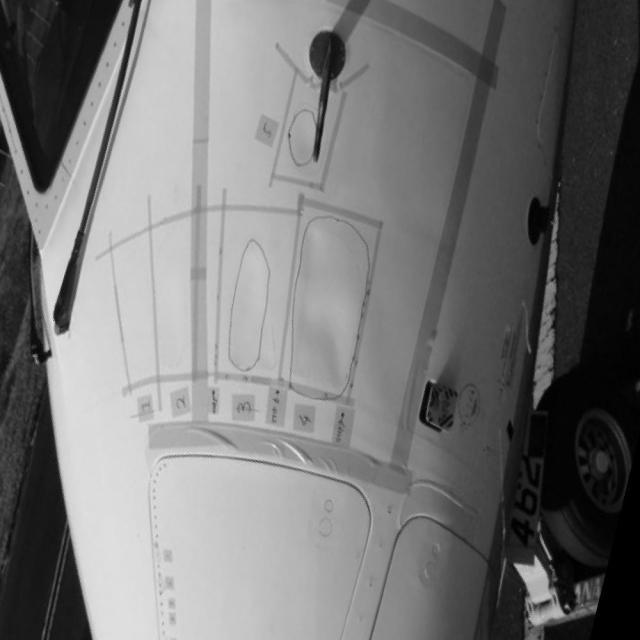dent: (300, 308, 341, 390), (306, 231, 329, 278)
